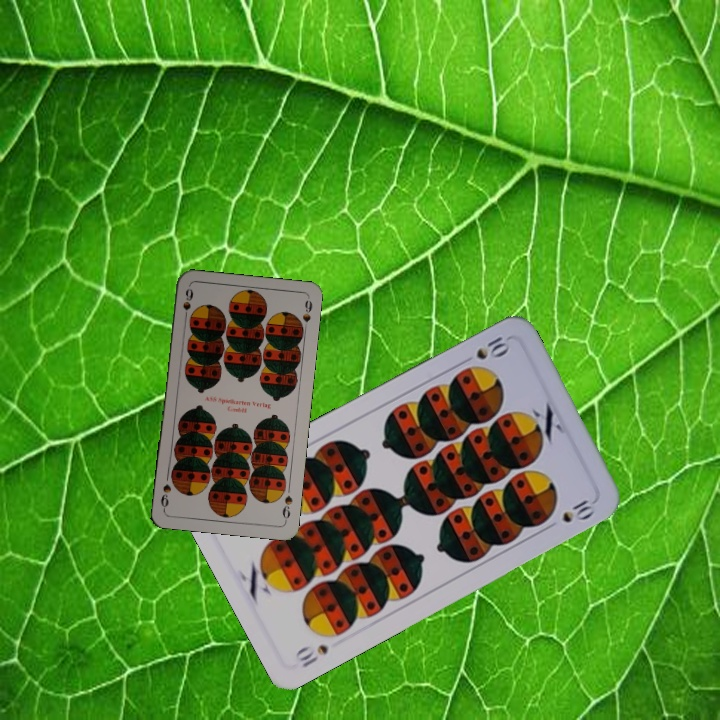S10: (457, 330, 514, 367), (290, 640, 332, 670)
S9: (179, 284, 196, 324), (278, 491, 295, 524)
